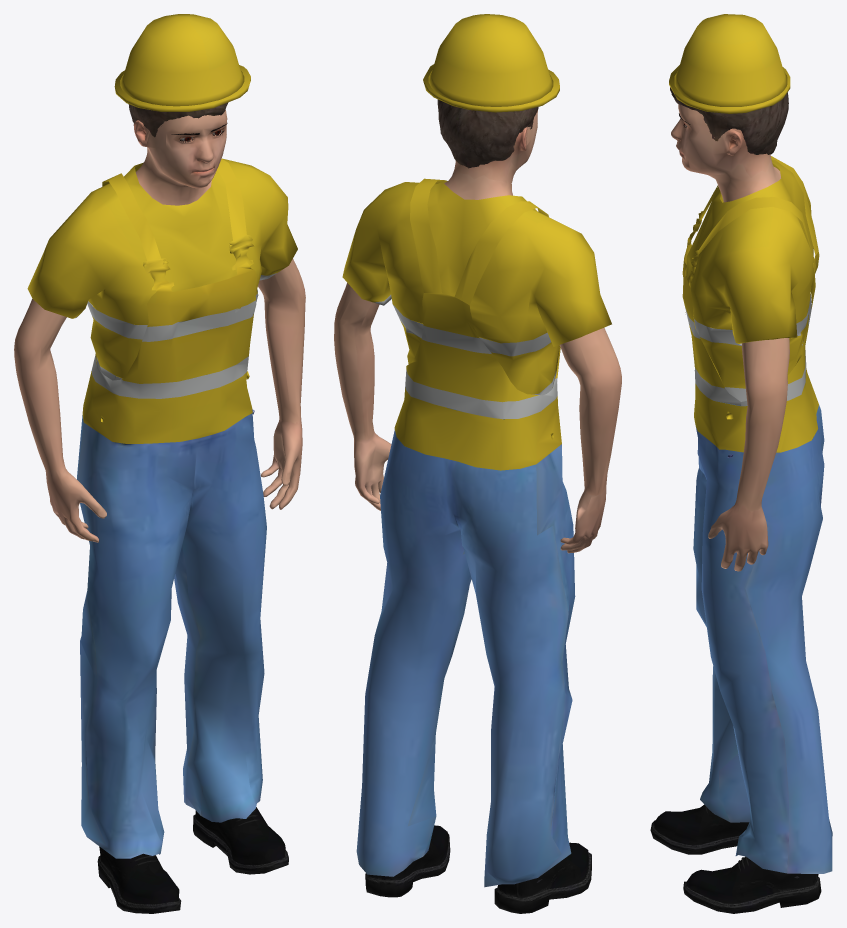
Rendered from worker-hivis.glb.
The picture shows the model from 3 angles, left to right: view 1: azimuth 30°, elevation 25°; view 2: azimuth 150°, elevation 25°; view 3: azimuth 270°, elevation 25°; orthographic projection. The views are drawn at different scales.
Parts seen in each view (by area): view 1: male_worksuit01, Drew | anatomical body, shoes03, short02; view 2: male_worksuit01, Drew | anatomical body, shoes03, short02; view 3: male_worksuit01, Drew | anatomical body, shoes03, short02.
Part boxes in pixels (left/top/right/bottom): male_worksuit01: left=27, top=14, right=297, bottom=858; Drew | anatomical body: left=14, top=110, right=305, bottom=542; shoes03: left=97, top=807, right=288, bottom=913; short02: left=128, top=102, right=228, bottom=137; male_worksuit01: left=342, top=14, right=611, bottom=887; Drew | anatomical body: left=334, top=109, right=621, bottom=553; shoes03: left=365, top=825, right=591, bottom=913; short02: left=437, top=99, right=538, bottom=168; male_worksuit01: left=669, top=14, right=832, bottom=873; Drew | anatomical body: left=671, top=104, right=789, bottom=571; shoes03: left=650, top=804, right=821, bottom=913; short02: left=670, top=87, right=788, bottom=154.
Bounding box in the file's own units: 0.6469 × 1.89 × 0.3671.
Materials: 11 (11 with a texture image).
